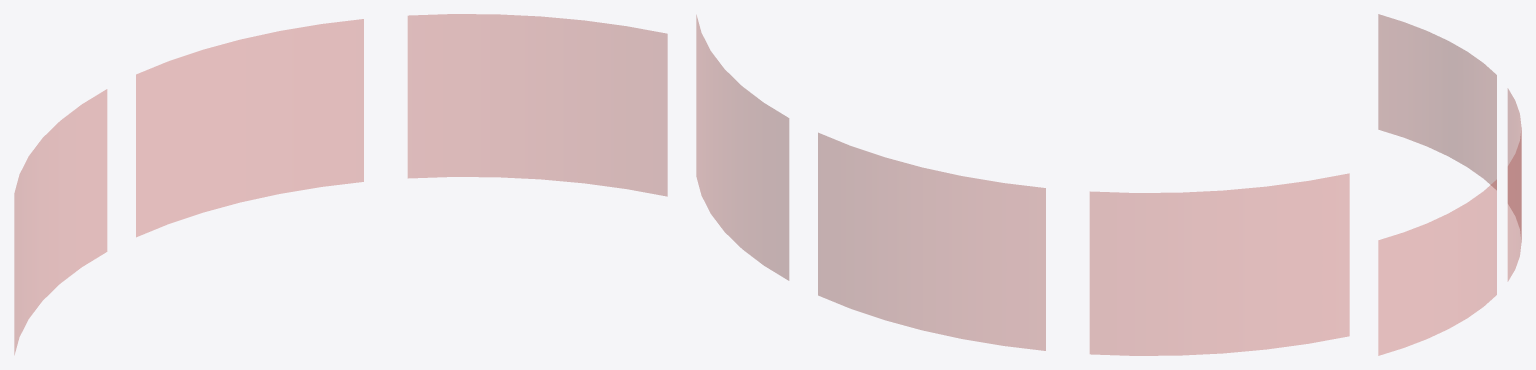
The model's file is Bridge_Glass.glb.
The picture shows the model from 3 angles, left to right: view 1: azimuth 30°, elevation 25°; view 2: azimuth 150°, elevation 25°; view 3: azimuth 270°, elevation 25°; orthographic projection. The views are drawn at different scales.
Visible parts, largest first — view 1: Bridge_Glass; view 2: Bridge_Glass; view 3: Bridge_Glass.
Boxes of the visible parts, left/top/right/bottom form: Bridge_Glass: left=14, top=14, right=667, bottom=354; Bridge_Glass: left=696, top=15, right=1349, bottom=355; Bridge_Glass: left=1378, top=14, right=1521, bottom=355.
Bounding box in the file's own units: 9.65 × 2.3 × 2.58.
